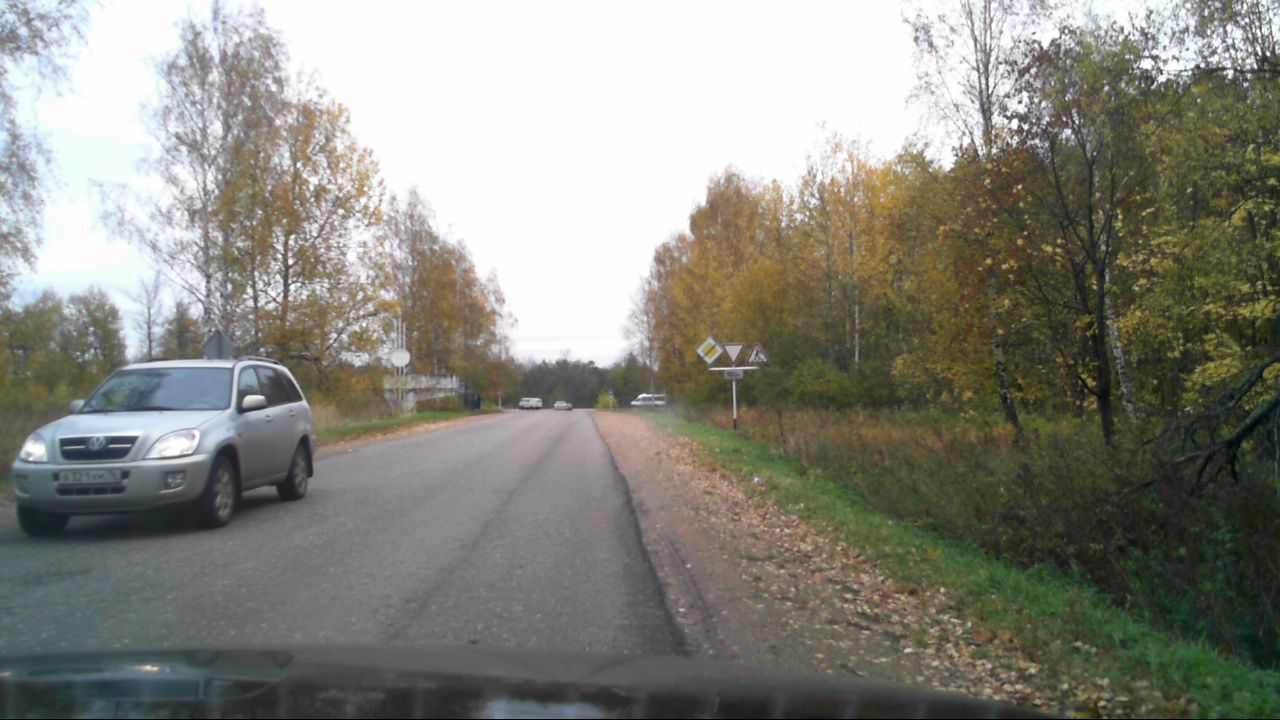main road: (695, 335, 723, 364)
